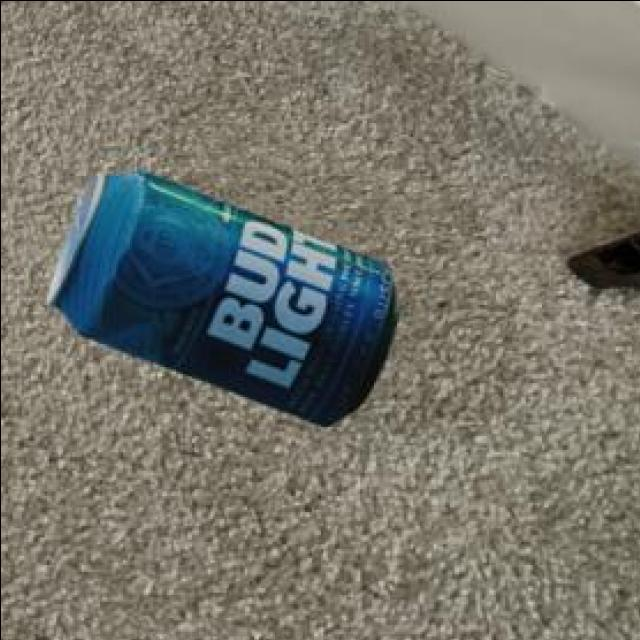logam: (43, 167, 395, 422)
